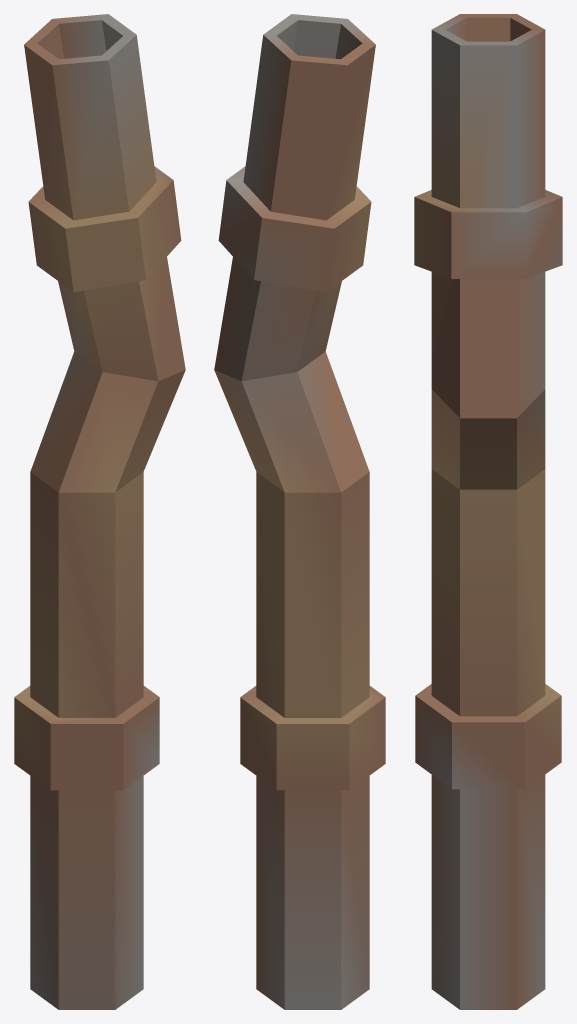
Rendered from item_pipe.glb.
3 views of the same model, side by side, from view 1: azimuth 30°, elevation 25°; view 2: azimuth 150°, elevation 25°; view 3: azimuth 270°, elevation 25° (orthographic).
Visible parts, largest first — view 1: BentPipe; view 2: BentPipe; view 3: BentPipe.
Boxes of the visible parts, <box> form: BentPipe: <box>14,14,185,1009</box>; BentPipe: <box>214,14,385,1009</box>; BentPipe: <box>414,14,562,1009</box>.
Bounding box in the file's own units: 0.137 × 0.8994 × 0.1257.
